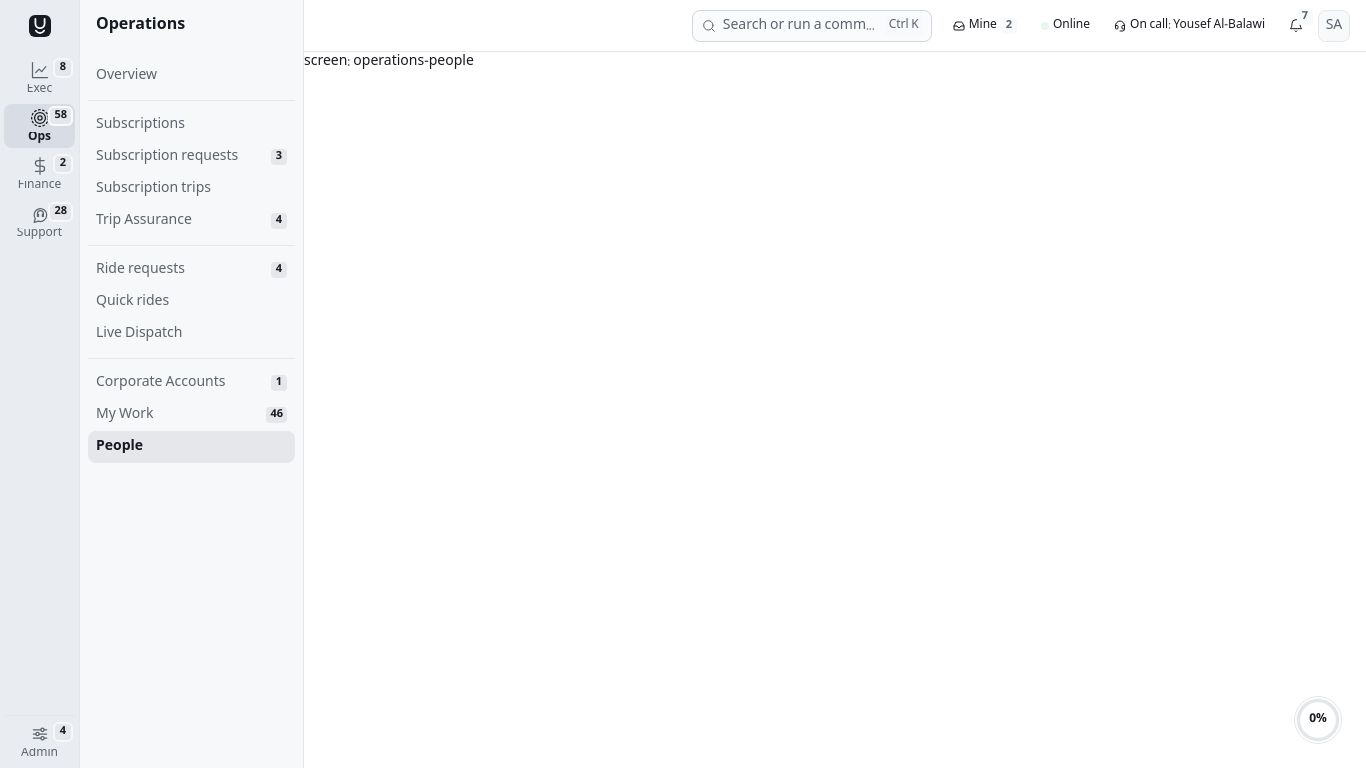
AC-30 — "Global search for a legacy destination name returns the destination it moved to. Four searches, four correct destinations" › shows the resolved destination in the global search popover, not just in the client
Expected: the element showing "screen: operations-people" is shown, [304,50,474,74]
Click the button "Search or run a command Ctrl K" at (812, 26), box [692,10,932,42]
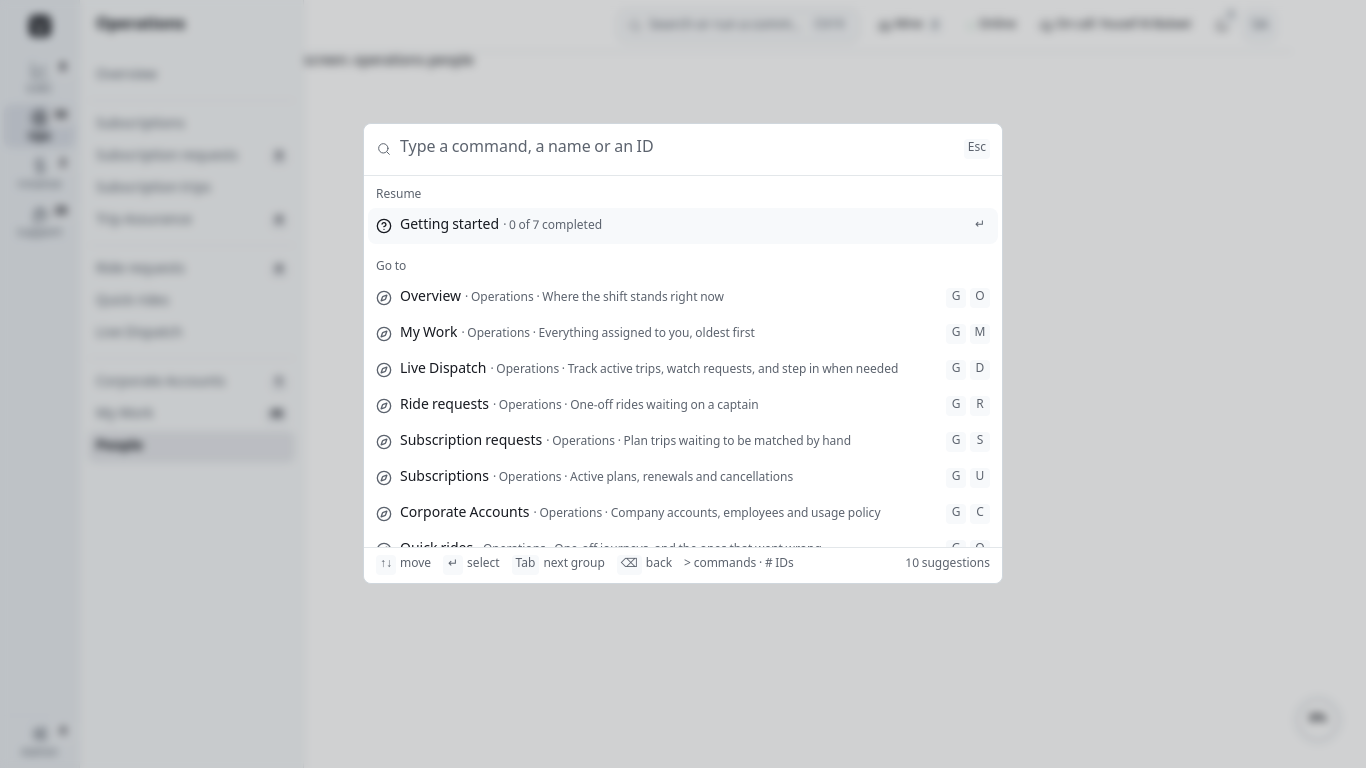
Type keys "Renewal pipeline"
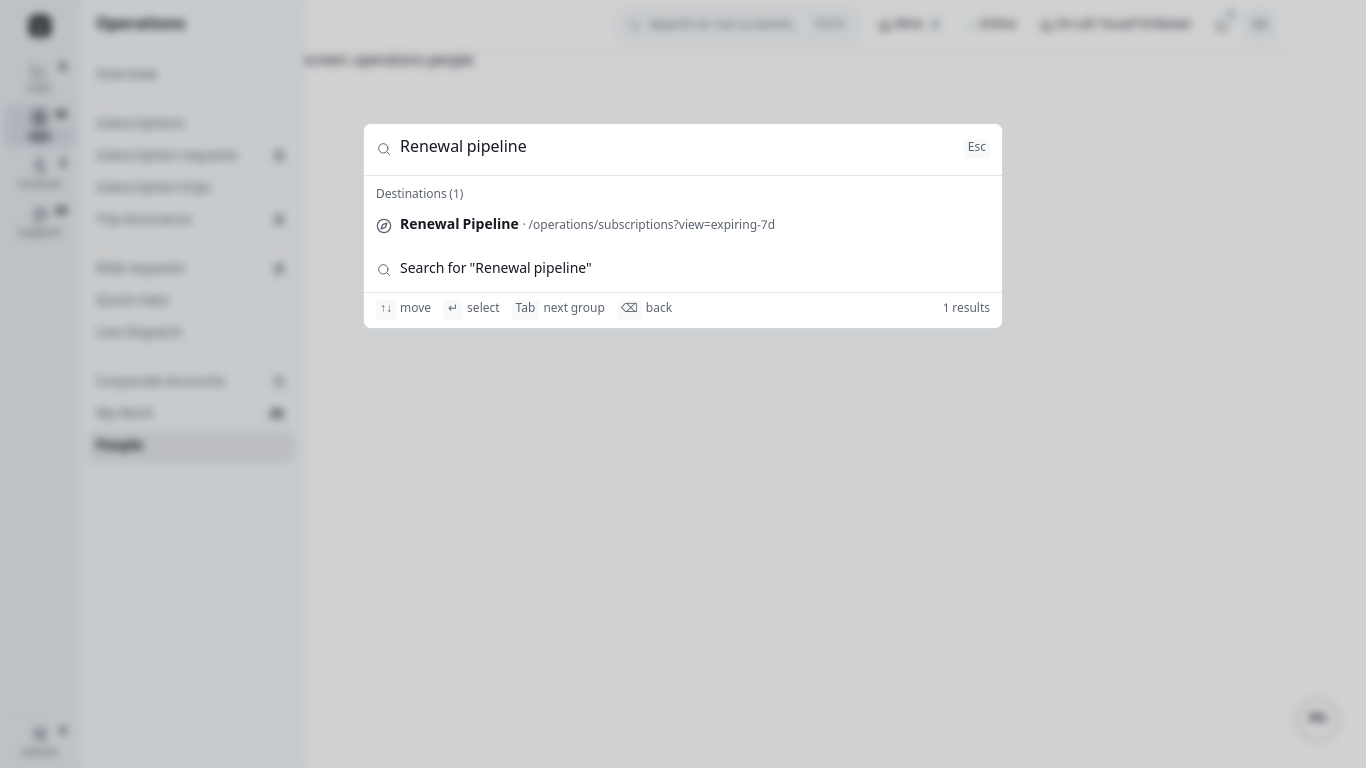
Expected: the text "Renewal Pipeline" is shown, [400,216,519,236]
Expected: the text "/operations/subscriptions?view=expiring-7d" is shown, [529,216,775,237]
